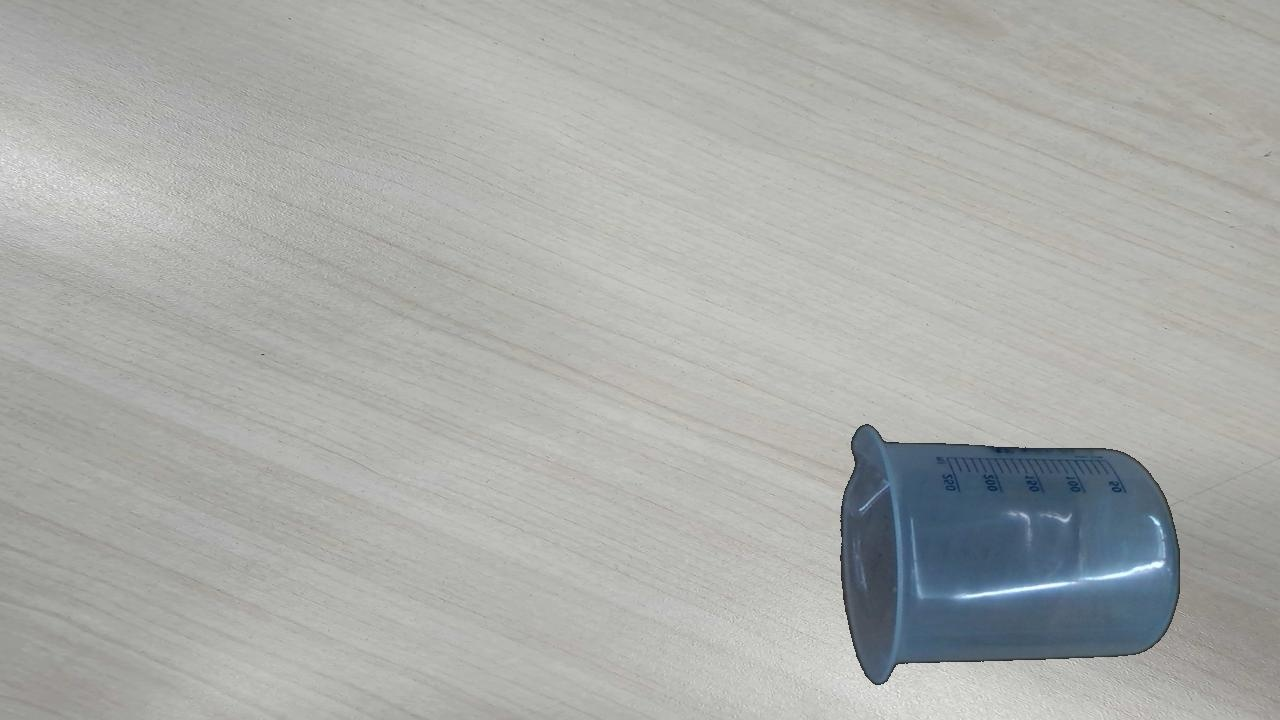becker: (839, 424, 1181, 686)
